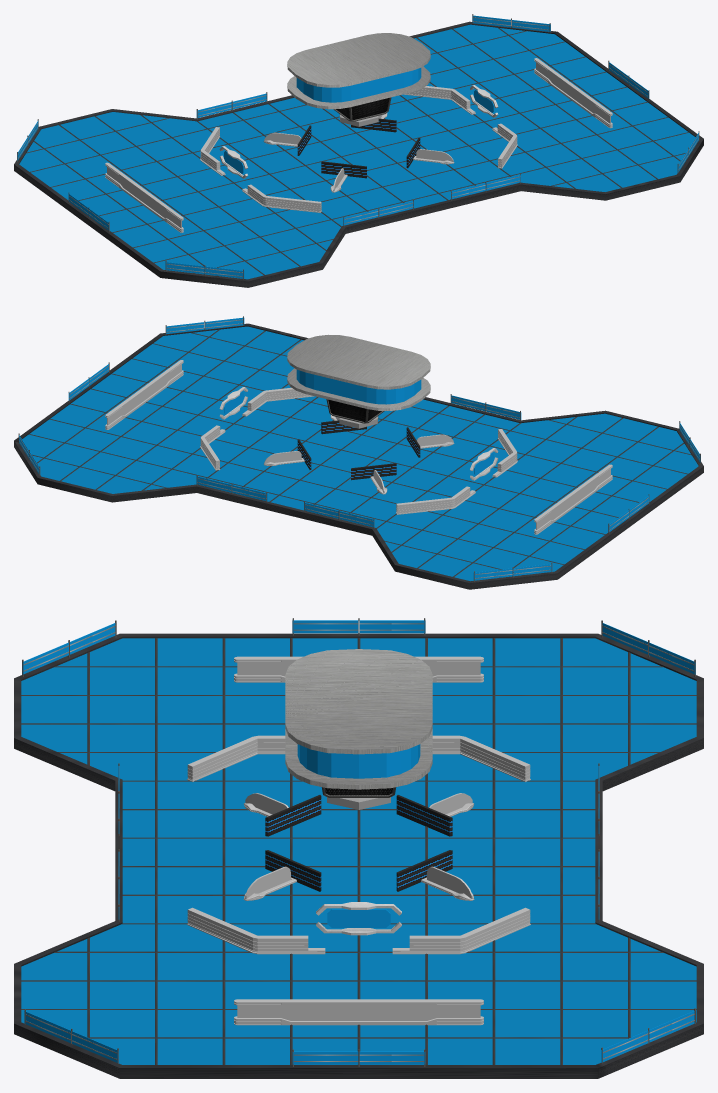
File: Arena_r04.fbx
The picture shows the model from 3 angles, top to bottom: view 1: azimuth 30°, elevation 25°; view 2: azimuth 150°, elevation 25°; view 3: azimuth 270°, elevation 25°; orthographic projection. The views are drawn at different scales.
Visible parts, largest first — view 1: floor, floor_grids, floor_guard, stadium_box, glass_wall7, glass_wall6, middle_walls, solid_wall, score_board, solid_wall8, solid_wall98, solid_wall9 (+1 smaller); view 2: floor, floor_grids, floor_guard, stadium_box, glass_wall6, glass_wall7, middle_walls, solid_wall98, score_board, solid_wall9, solid_wall, solid_wall8 (+1 smaller); view 3: floor, floor_guard, floor_grids, stadium_box, glass_wall7, middle_walls, glass_wall6, solid_wall8, solid_wall9, solid_wall98, solid_wall, rail_wall (×2) (+4 smaller).
Boxes of the visible parts, x1,y1,x2,y2 form: floor: (19, 24, 695, 279); floor_grids: (26, 27, 688, 275); floor_guard: (14, 21, 703, 287); stadium_box: (287, 33, 430, 109); glass_wall7: (534, 58, 612, 128); glass_wall6: (105, 162, 183, 232); middle_walls: (297, 118, 420, 178); solid_wall: (242, 184, 321, 212); score_board: (333, 97, 391, 121); solid_wall8: (403, 86, 475, 114); solid_wall98: (200, 127, 225, 175); solid_wall9: (492, 123, 517, 168); floor: (22, 326, 698, 581); floor_grids: (29, 329, 691, 577); floor_guard: (14, 323, 703, 589); stadium_box: (287, 334, 430, 410); glass_wall6: (534, 464, 612, 534); glass_wall7: (105, 360, 183, 429); middle_walls: (297, 420, 420, 480); solid_wall98: (396, 486, 475, 514); score_board: (326, 399, 384, 423); solid_wall9: (242, 387, 314, 416); solid_wall: (492, 429, 517, 477); solid_wall8: (200, 425, 225, 470); floor: (21, 638, 696, 1064); floor_guard: (14, 633, 703, 1078); floor_grids: (21, 638, 696, 1064); stadium_box: (285, 649, 432, 789); glass_wall7: (234, 999, 483, 1025); middle_walls: (265, 795, 452, 891); glass_wall6: (234, 656, 483, 682); solid_wall8: (392, 907, 530, 954); solid_wall9: (187, 907, 325, 954); solid_wall98: (432, 735, 530, 781); solid_wall: (187, 735, 285, 781); rail_wall (×2): (292, 620, 358, 1064).
Size of the model in its own units: 30427 by 5300 by 20427.
